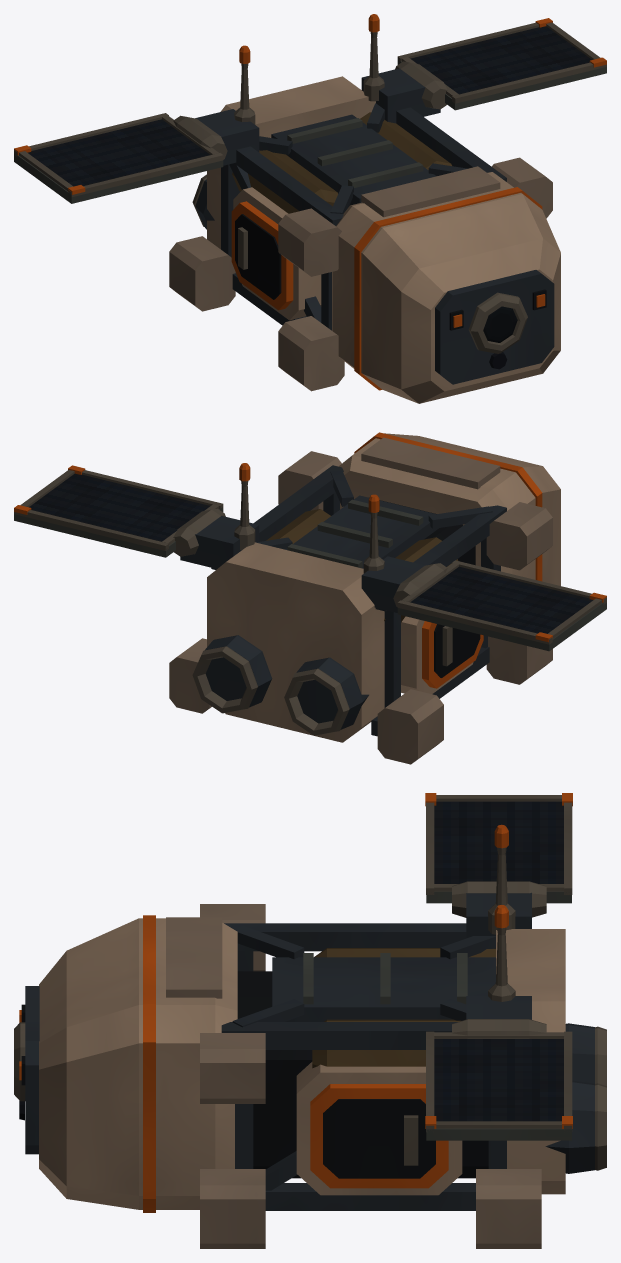
Rendered from base-drone-lod2.glb.
3 views of the same model, one above another, from view 1: azimuth 30°, elevation 25°; view 2: azimuth 150°, elevation 25°; view 3: azimuth 270°, elevation 25° (orthographic). The views are drawn at different scales.
Visible parts, largest first — view 1: Drone hardware trim 2, Drone photovoltaic coverglass 2; view 2: Drone hardware trim 2, Drone photovoltaic coverglass 2; view 3: Drone hardware trim 2, Drone photovoltaic coverglass 2.
Part boxes in pixels (x1,y1,x2,y2): Drone hardware trim 2: [14, 14, 606, 403]; Drone photovoltaic coverglass 2: [27, 26, 591, 186]; Drone hardware trim 2: [14, 432, 606, 764]; Drone photovoltaic coverglass 2: [29, 473, 593, 633]; Drone hardware trim 2: [14, 793, 606, 1248]; Drone photovoltaic coverglass 2: [434, 801, 563, 1121].
Size of the model in its own units: 5.96 by 2.6 by 4.51.
Materials: 2 (2 with a texture image).
